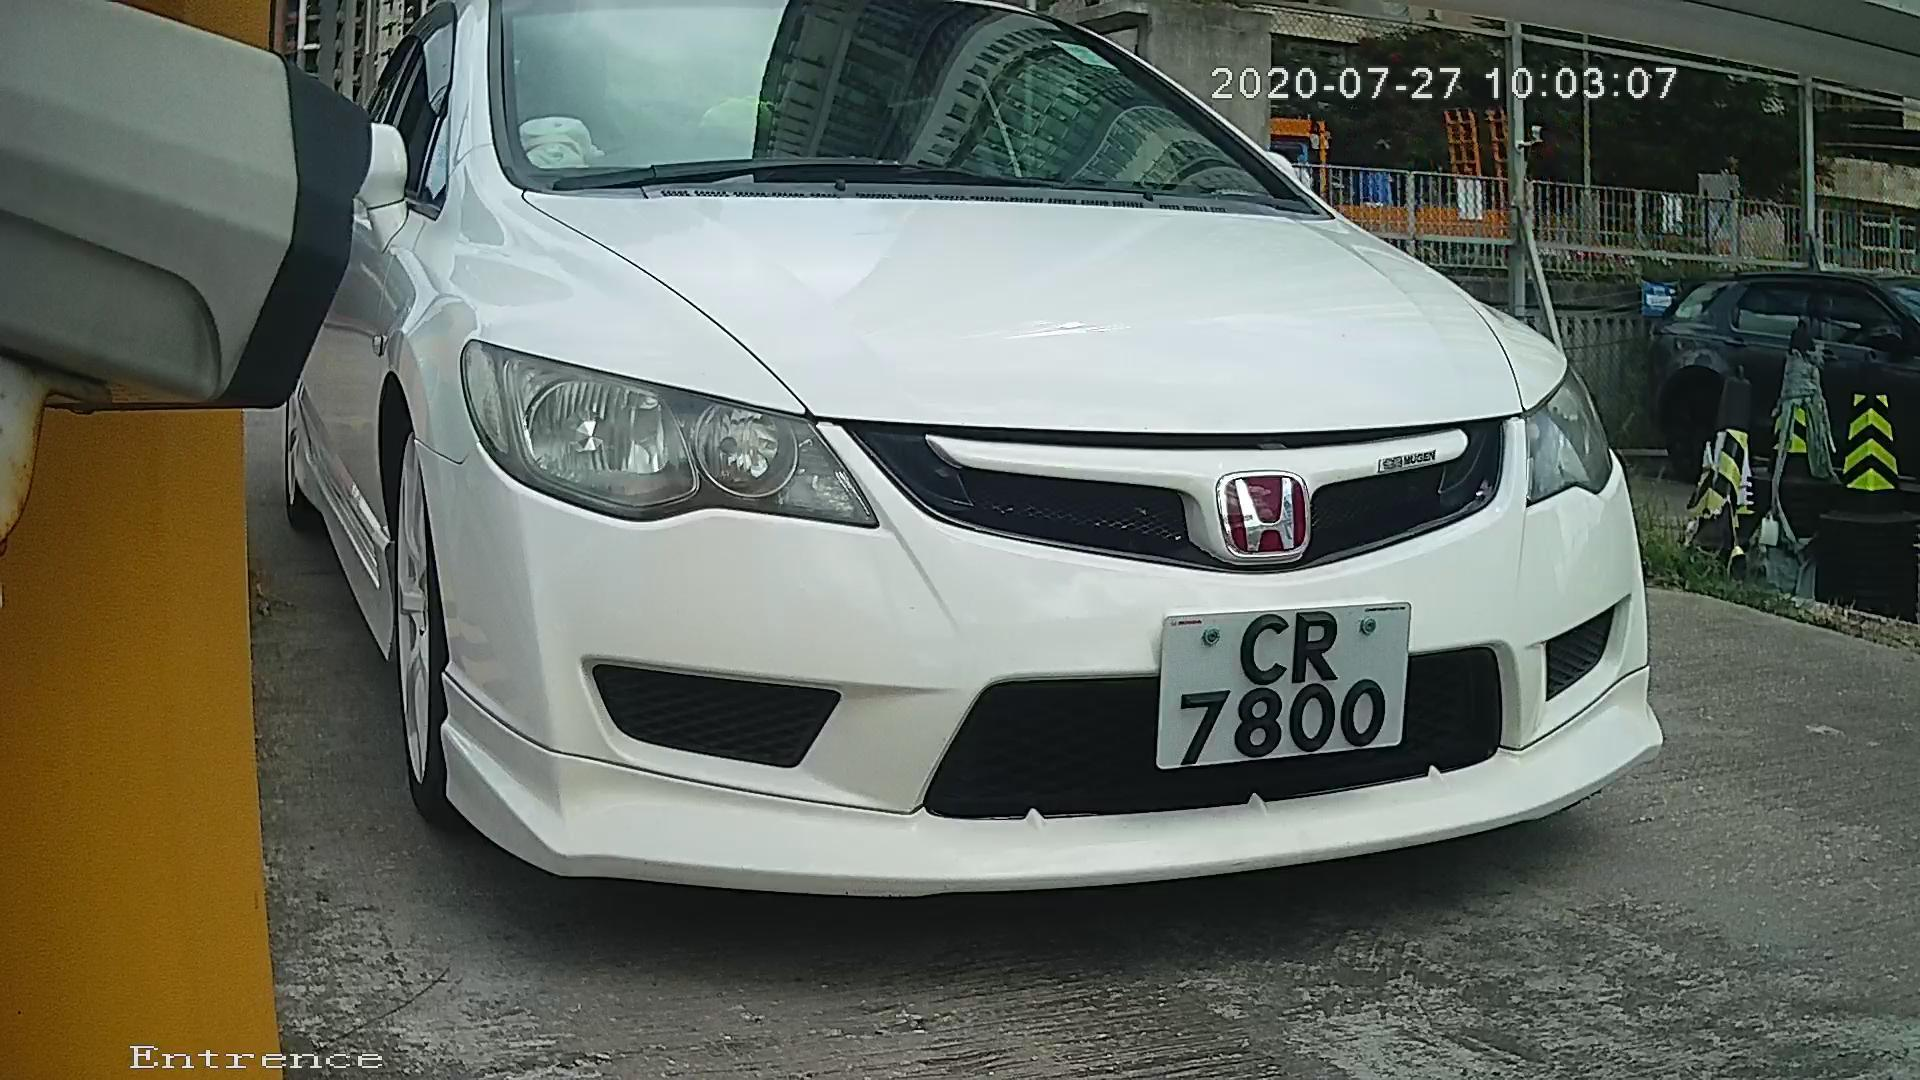Car: (172, 39, 1749, 921)
License Plate: (1132, 584, 1423, 782)
